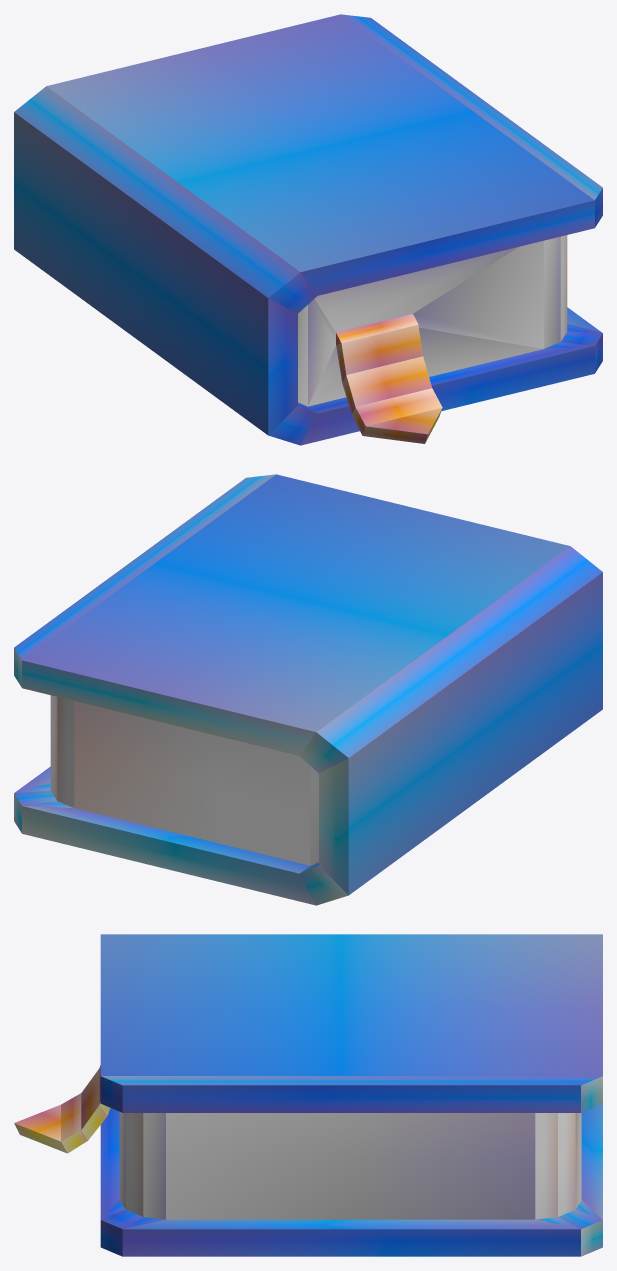
Rendered from book03.fbx.
3 views of the same model, one above another, from view 1: azimuth 30°, elevation 25°; view 2: azimuth 150°, elevation 25°; view 3: azimuth 270°, elevation 25° (orthographic).
Parts seen in each view (by area): view 1: book03; view 2: book03; view 3: book03.
Boxes of the visible parts, x1,y1,x2,y2 form: book03: [14, 14, 602, 445]; book03: [14, 474, 602, 905]; book03: [14, 934, 602, 1256].
Size of the model in its own units: 70.16 by 33.61 by 105.
